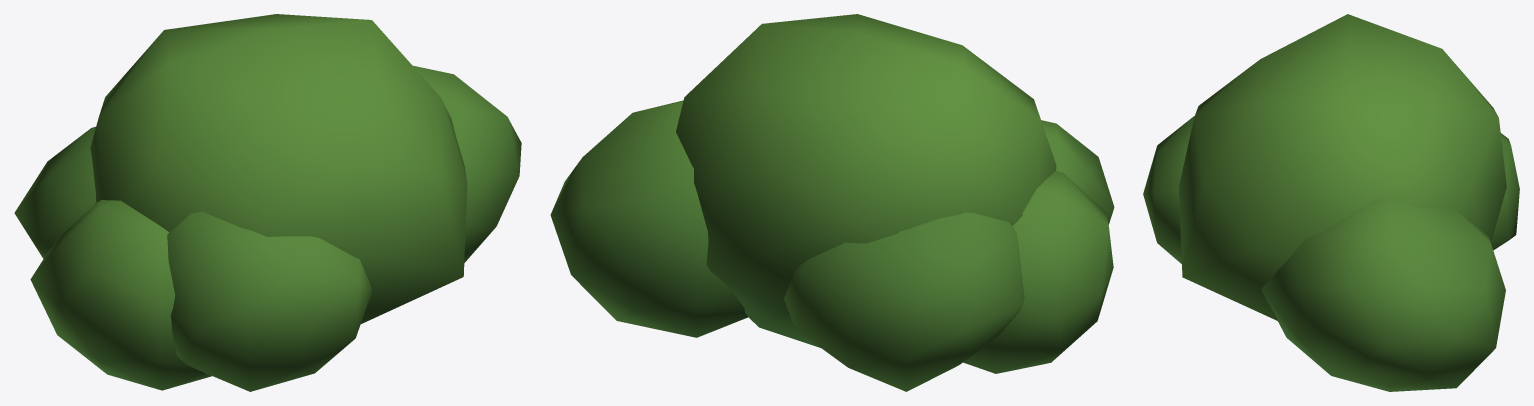
Rendered from shrub-1.glb.
3 views of the same model, side by side, from view 1: azimuth 30°, elevation 25°; view 2: azimuth 150°, elevation 25°; view 3: azimuth 270°, elevation 25° (orthographic). The views are drawn at different scales.
Parts seen in each view (by area): view 1: leaf; view 2: leaf; view 3: leaf.
Part boxes in pixels (x1,y1,x2,y2): leaf: [14, 14, 521, 391]; leaf: [550, 14, 1114, 391]; leaf: [1143, 14, 1519, 391].
Bounding box in the file's own units: 1.79 × 1.12 × 1.3.
